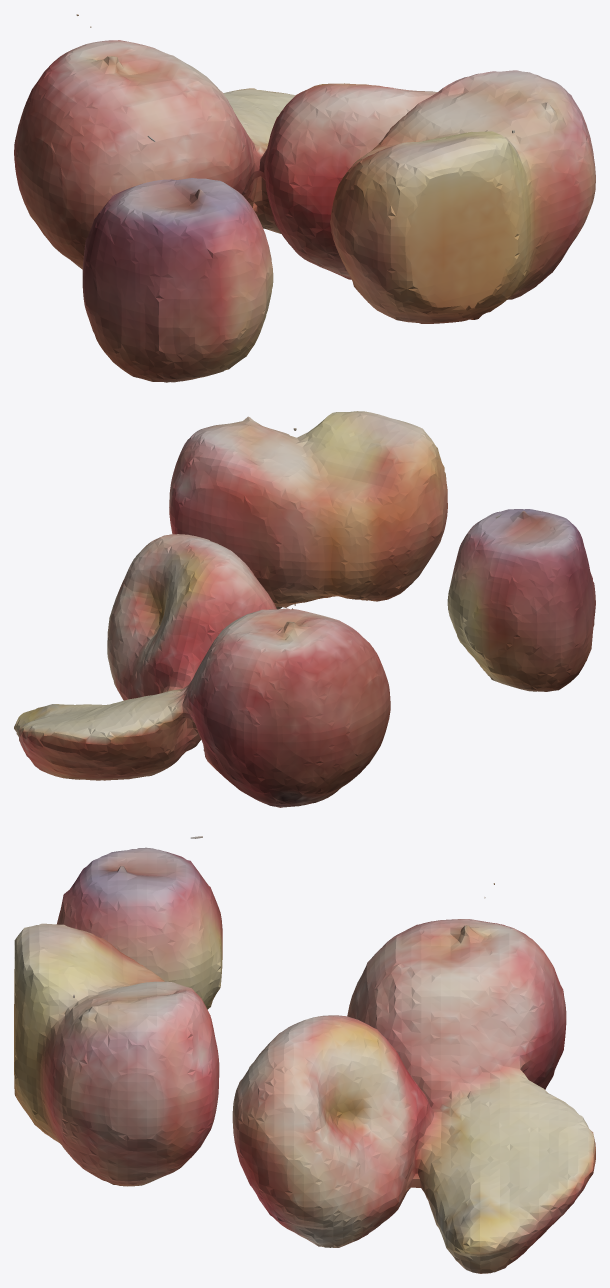
File: model_raw.glb
The picture shows the model from 3 angles, top to bottom: view 1: azimuth 30°, elevation 25°; view 2: azimuth 150°, elevation 25°; view 3: azimuth 270°, elevation 25°; orthographic projection. The views are drawn at different scales.
Visible parts, largest first — view 1: geometry_0; view 2: geometry_0; view 3: geometry_0.
Part boxes in pixels (<box>): geometry_0: <box>14,14,595,382</box>; geometry_0: <box>14,411,595,807</box>; geometry_0: <box>14,836,595,1273</box>.
Size of the model in its own units: 1.81 by 0.9782 by 1.95.
